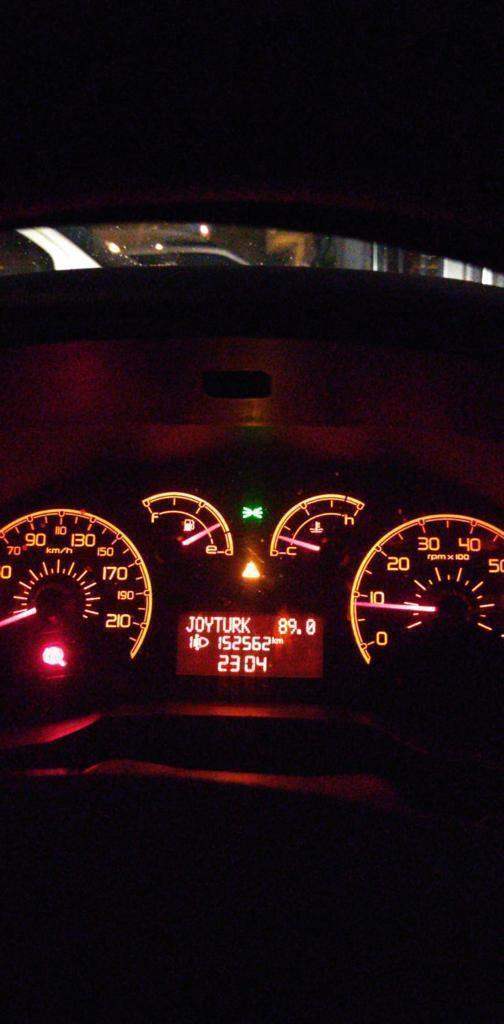,: (297, 627, 302, 635)
0: (304, 617, 317, 636), (244, 654, 256, 673)
1: (188, 634, 192, 650), (217, 635, 221, 650)
2: (217, 653, 229, 672), (261, 635, 271, 651), (232, 635, 241, 650)
3: (230, 653, 241, 672)
4: (256, 654, 267, 671)
5: (242, 635, 251, 651), (222, 634, 231, 650)
6: (252, 634, 261, 651)
8: (277, 616, 287, 634)
9: (288, 616, 296, 634)
X: (241, 616, 251, 633), (184, 615, 194, 632), (222, 615, 231, 633), (195, 615, 204, 633), (231, 616, 240, 633), (204, 615, 213, 632), (213, 616, 222, 632), (271, 635, 276, 644), (276, 638, 283, 644)
odometer: (175, 609, 327, 680)
